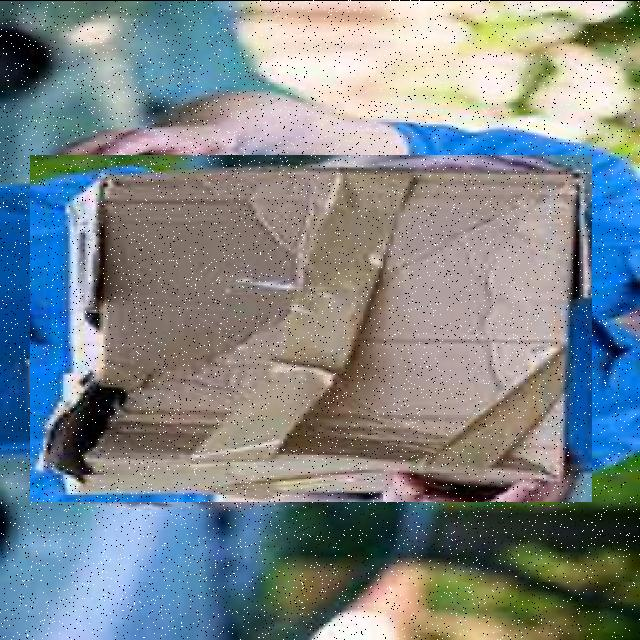defect: (30, 154, 592, 501)
